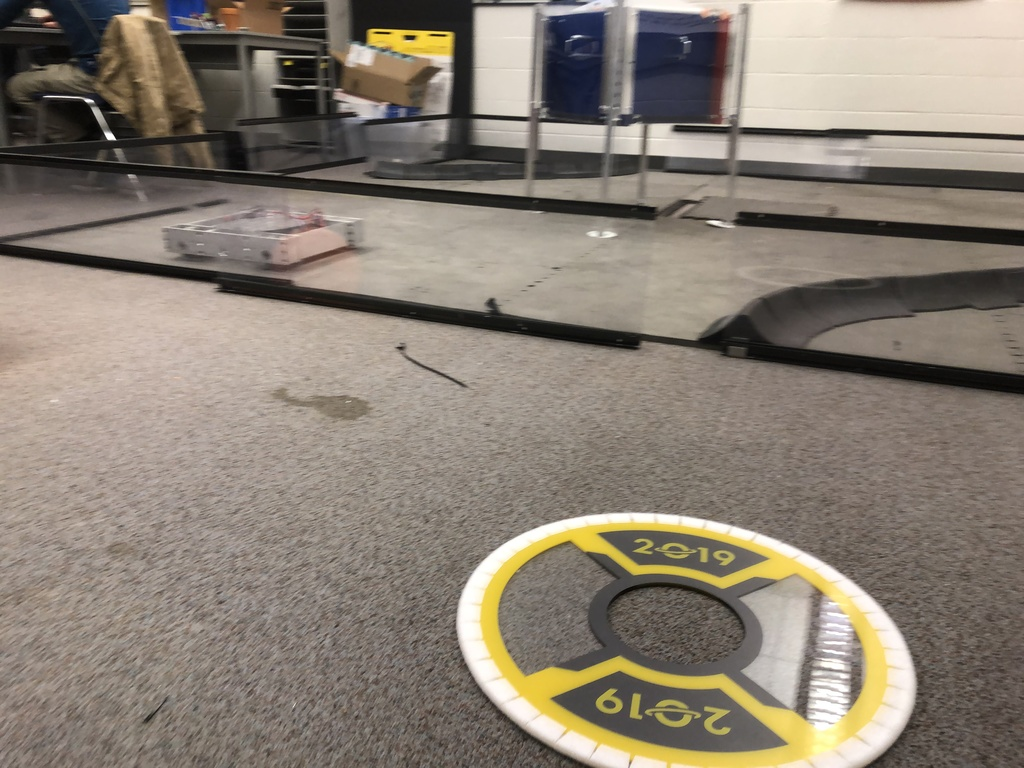hatch_panel: (442, 499, 934, 768)
